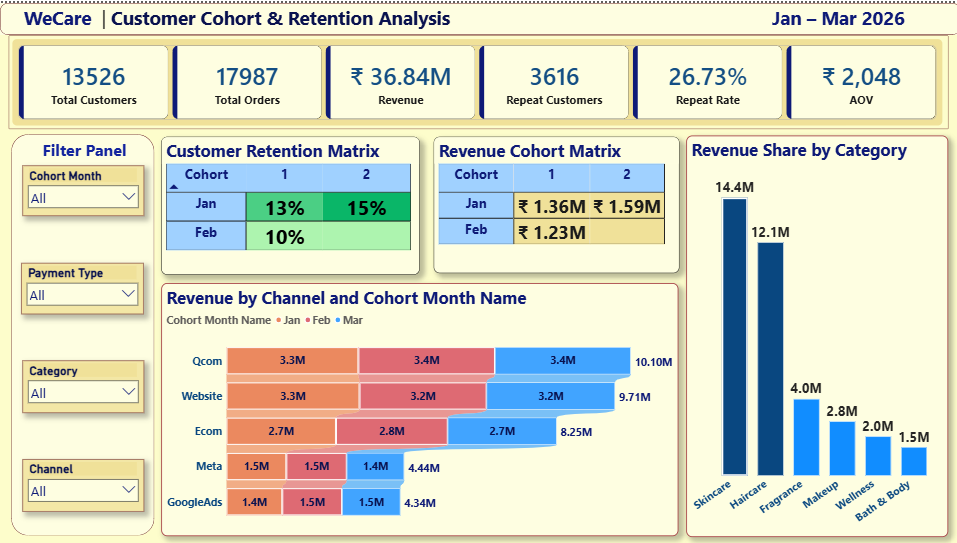

Layout of this report page (visuals, bound fields, positions):
{"tool":"powerbi","page":{"name":"Page 1","canvas":[1920,1080],"ordinal":0},"visuals":[{"type":"shape","box":[0,0,1920.4,1080.6],"z":0},{"type":"pivotTable","title":"Customer Retention Matrix","fields":{"Rows":["wecare_orders.Cohort Month Name"],"Columns":["wecare_orders.Cohort Index"],"Values":["wecare_orders.Retention %"]},"box":[323.2,267.6,516.6,275.8],"z":1000},{"type":"shape","box":[0,0,1920.4,63.8],"z":2000},{"type":"pivotTable","title":"Revenue Cohort  Matrix","fields":{"Columns":["wecare_orders.Cohort Index"],"Values":["wecare_orders.Revenue"],"Rows":["wecare_orders.Cohort Month Name"]},"box":[866.4,268.4,491,272.8],"z":3000},{"type":"barChart","fields":{"Category":["wecare_orders.Channel"],"Y":["wecare_orders.Revenue"],"Series":["wecare_orders.Cohort Month Name"]},"box":[323,560.9,1034.4,506.3],"z":4000},{"type":"columnChart","title":"Revenue Share by Category","fields":{"Category":["wecare_orders.Order_Item"],"Y":["wecare_orders.Revenue"]},"box":[1372.7,264.1,523.8,803.1],"z":5000},{"type":"cardVisual","fields":{"Data":["wecare_orders.Total Customers","wecare_orders.Orders Count","wecare_orders.Revenue","wecare_orders.Repeat Customers","wecare_orders.Repeat Rate1","wecare_orders.AOV"]},"box":[16.5,63.8,1879.3,187.3],"z":6000},{"type":"textbox","box":[43.2,0,1819.6,80.3],"z":7000},{"type":"shape","box":[22.6,263.5,286.1,802.7],"z":8000},{"type":"slicer","fields":{"Values":["wecare_orders.Payment_Type"]},"box":[43.5,518.8,244.4,102.6],"z":9000},{"type":"slicer","fields":{"Values":["wecare_orders.Cohort Month Name"]},"box":[44.3,325.2,242.9,100.9],"z":10000},{"type":"slicer","fields":{"Values":["wecare_orders.Order_Item"]},"box":[44.3,714.1,242.9,105],"z":11000},{"type":"slicer","fields":{"Values":["wecare_orders.Channel"]},"box":[44.3,911.8,242.9,105],"z":12000},{"type":"textbox","box":[80.3,267.6,189.4,57.6],"z":13000}]}

Visuals, with their boxes in screenshot pixels (x1, y1, x2, y2), scaled from the page's 1920x1080 canvas onto the 957x543 screenshot:
shape: bbox(0, 0, 956, 542)
"Customer Retention Matrix" pivotTable: bbox(161, 135, 419, 273)
shape: bbox(0, 0, 956, 32)
"Revenue Cohort  Matrix" pivotTable: bbox(432, 135, 677, 272)
barChart - wecare_orders.Channel x wecare_orders.Revenue: bbox(161, 282, 677, 537)
"Revenue Share by Category" columnChart: bbox(684, 133, 945, 537)
cardVisual - wecare_orders.Total Customers x wecare_orders.Orders Count: bbox(8, 32, 945, 126)
textbox: bbox(22, 0, 928, 40)
shape: bbox(11, 132, 154, 536)
slicer - wecare_orders.Payment_Type: bbox(22, 261, 144, 312)
slicer - wecare_orders.Cohort Month Name: bbox(22, 164, 143, 214)
slicer - wecare_orders.Order_Item: bbox(22, 359, 143, 412)
slicer - wecare_orders.Channel: bbox(22, 458, 143, 511)
textbox: bbox(40, 135, 134, 164)
